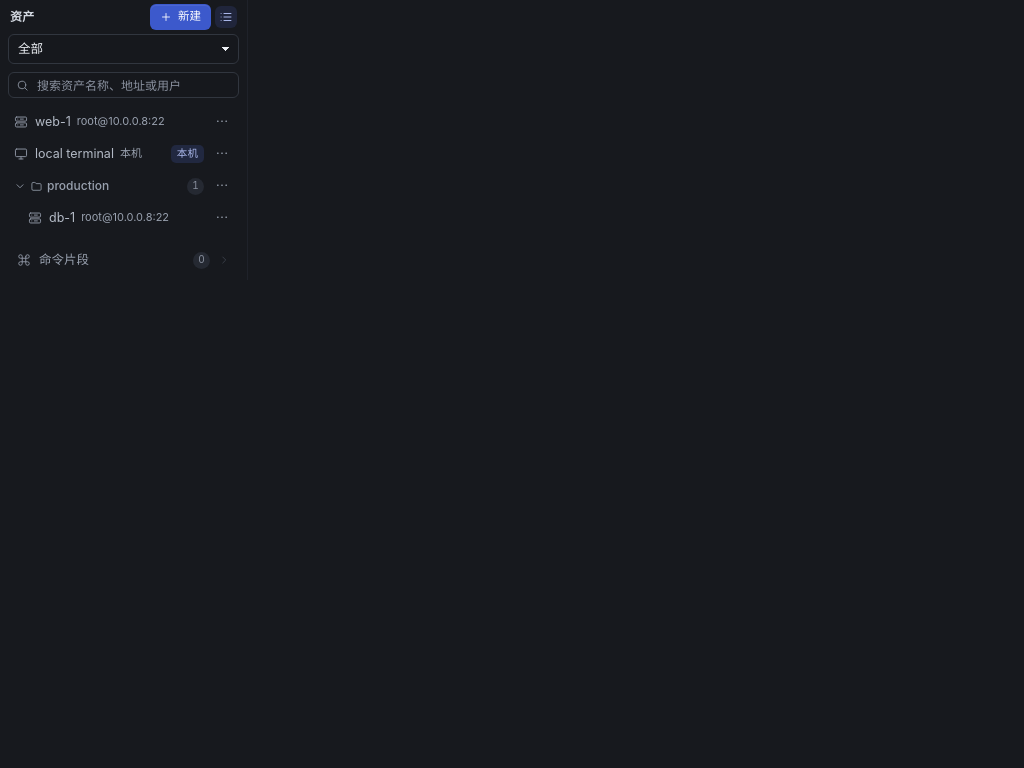
Test case: asset row actions on coarse pointers › collapses group row actions into an overflow menu as well
Click the 3rd button with class "nx-row-more" at (222, 186), box [211, 175, 233, 197]
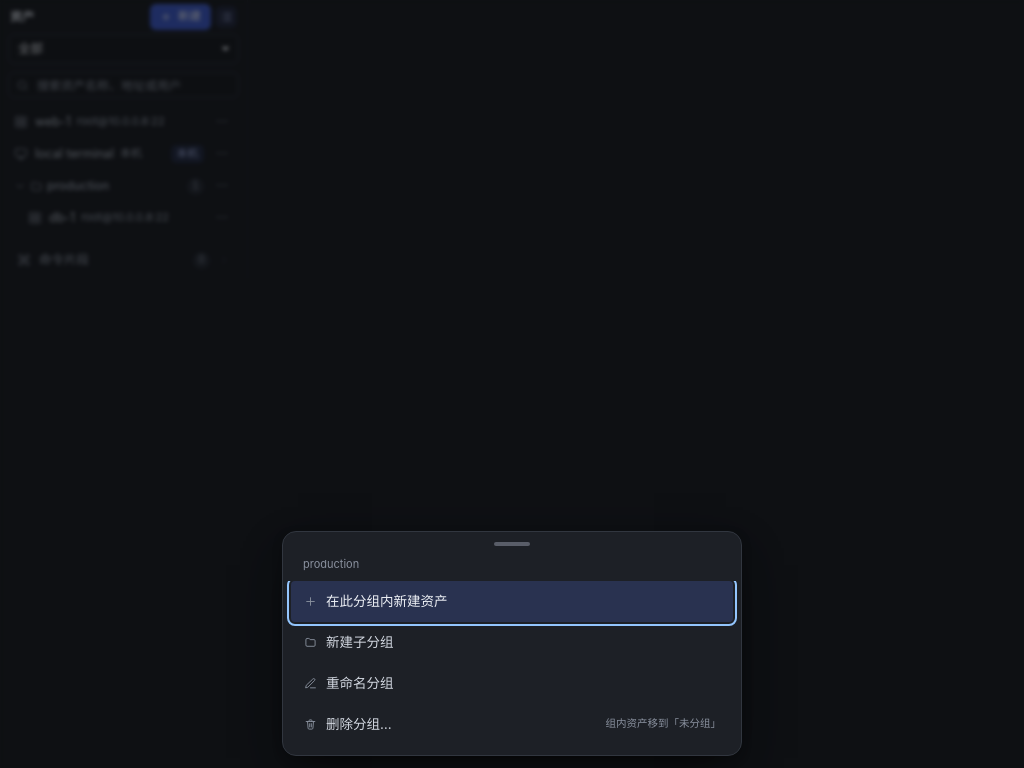
Click the menu item "重命名分组" at (360, 683), box [291, 663, 733, 704]
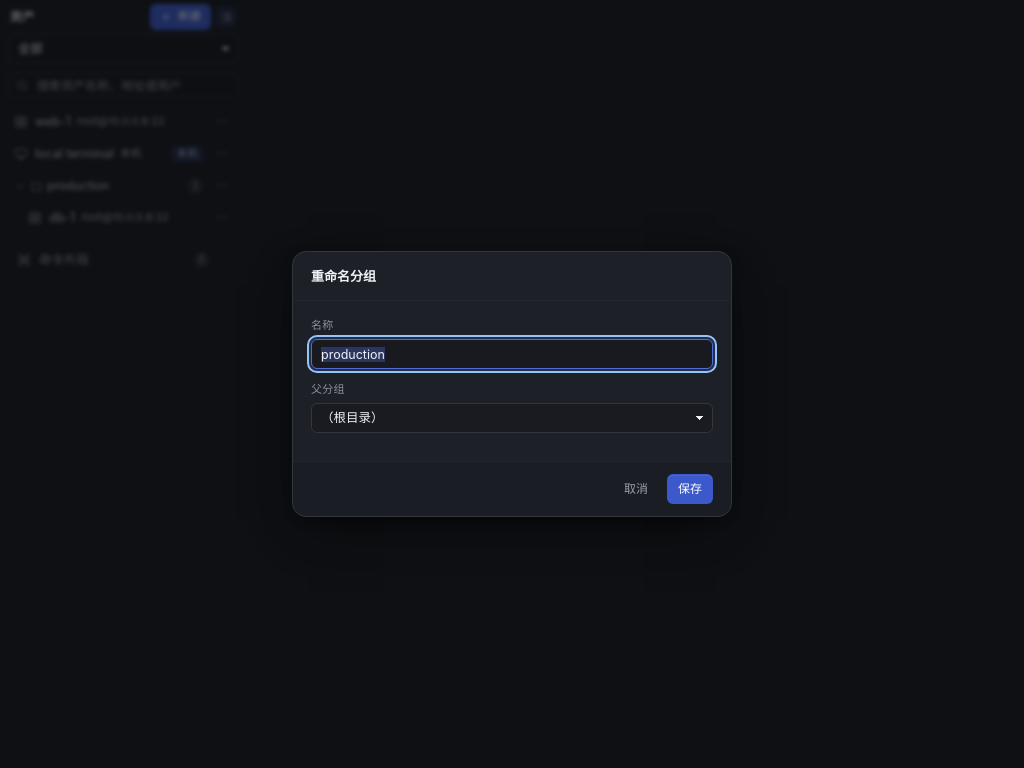
Now the dialog with class "nx-modal" is shown, box [292, 251, 732, 517]
